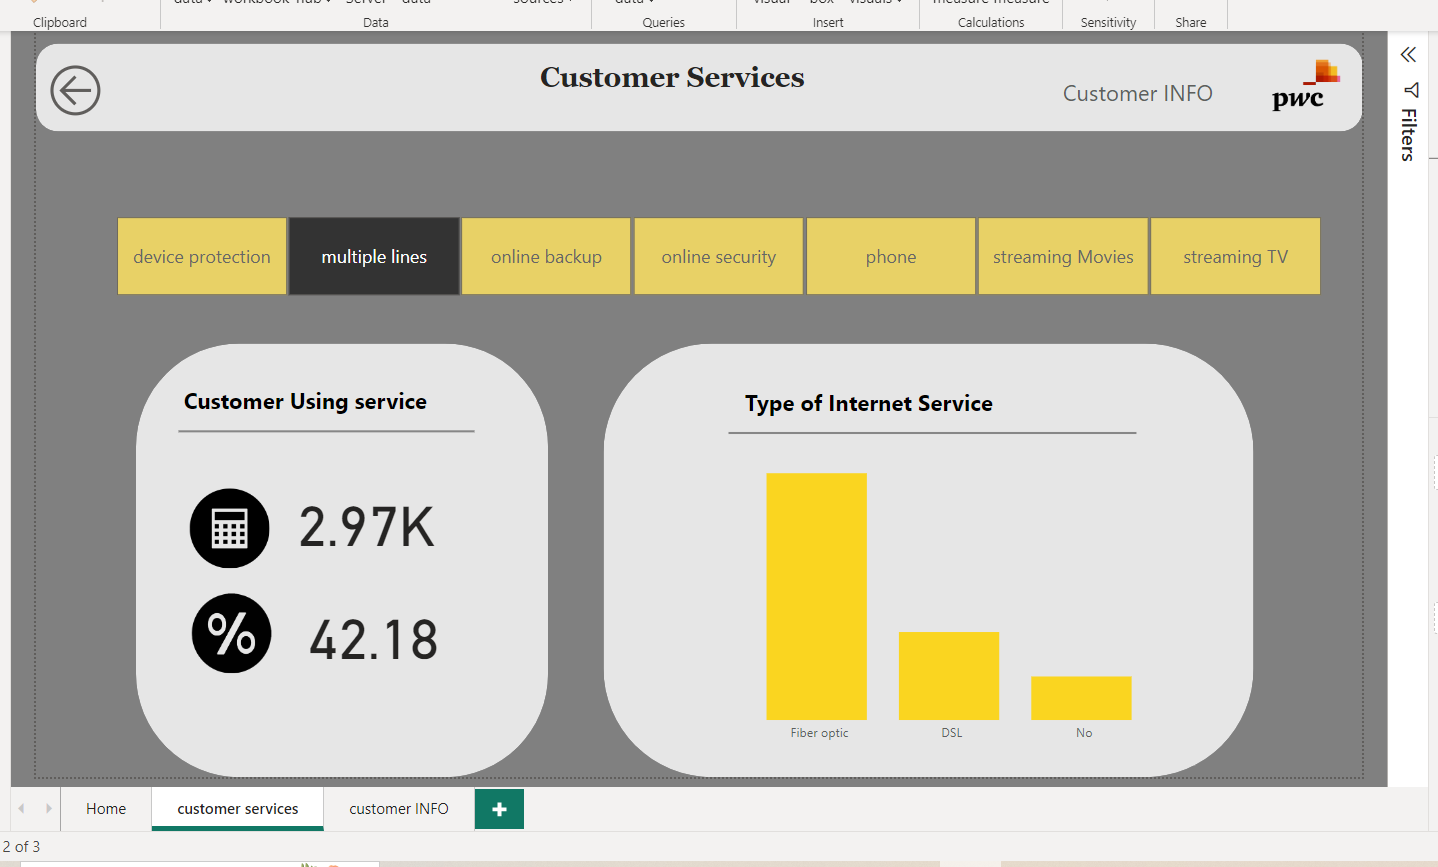

This screenshot's page, from the dashboard's own definition file:
{"tool":"powerbi","page":{"name":"customer services","canvas":[1280,720],"ordinal":1},"visuals":[{"type":"shape","box":[547.5,301.9,627.1,418.5],"z":0},{"type":"shape","box":[96.1,301.9,397.9,418.5],"z":1000},{"type":"shape","box":[0,12.3,1280.3,85.1],"z":2000},{"type":"slicer","fields":{"Values":["switch table.customer services"]},"box":[52.1,172.9,1211.7,89.2],"z":3000},{"type":"card","fields":{"Values":["#Measures.%of_customer_using_service"]},"box":[203.1,522.8,247,113.9],"z":4000},{"type":"card","fields":{"Values":["#Measures.select service"]},"box":[186.6,404.8,263.5,131.7],"z":5000},{"type":"clusteredColumnChart","fields":{"Category":["01 Churn-Dataset.InternetService"],"Y":["#Measures.select service"]},"box":[627.1,404.8,491.3,303.3],"z":6000},{"type":"actionButton","box":[6.9,26.1,89.2,61.7],"z":7000},{"type":"textbox","box":[137.2,336.2,312.9,46.7],"z":8000},{"type":"shape","box":[137.2,367.8,285.4,37],"z":9000},{"type":"image","box":[144.1,436.4,86.4,86.4],"z":10000},{"type":"textbox","box":[679.2,338.9,328,39.8],"z":11000},{"type":"shape","box":[668.3,371.9,393.8,32.9],"z":12000},{"type":"image","box":[137.2,537.9,101.5,86.4],"z":13000},{"type":"textbox","box":[463.8,24.7,299.1,59],"z":14000},{"type":"image","box":[1188.3,23.3,75.5,59],"z":15000},{"type":"actionButton","box":[961.9,38.4,201.7,39.8],"z":16000}]}

Visuals, with their boxes on the page's 1280x720 design canvas (x1, y1, x2, y2). These are canvas units, not pixel positions in the 1438x867 screenshot, which may show the page scaled, cropped or inside an application window:
shape: 548:302:1175:720
shape: 96:302:494:720
shape: 0:12:1280:97
slicer - switch table.customer services: 52:173:1264:262
card - #Measures.%of_customer_using_service: 203:523:450:637
card - #Measures.select service: 187:405:450:536
clusteredColumnChart - 01 Churn-Dataset.InternetService x #Measures.select service: 627:405:1118:708
actionButton: 7:26:96:88
textbox: 137:336:450:383
shape: 137:368:423:405
image: 144:436:230:523
textbox: 679:339:1007:379
shape: 668:372:1062:405
image: 137:538:239:624
textbox: 464:25:763:84
image: 1188:23:1264:82
actionButton: 962:38:1164:78
